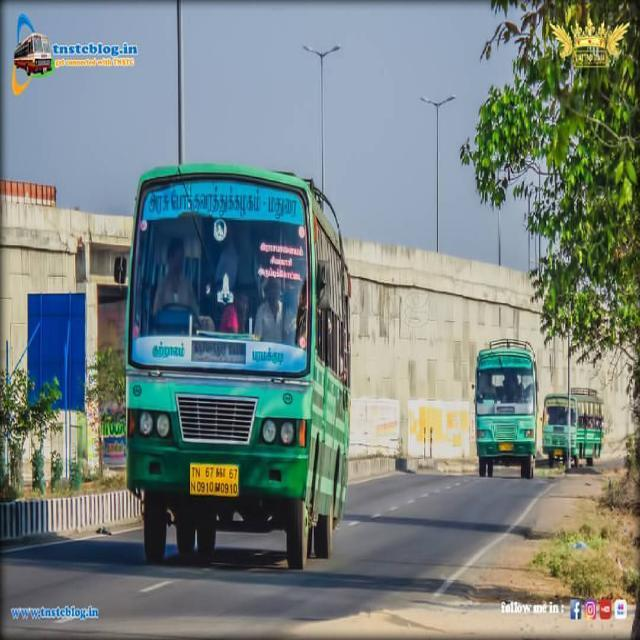Bus: (124, 166, 350, 576), (472, 338, 538, 479), (542, 388, 604, 467)
